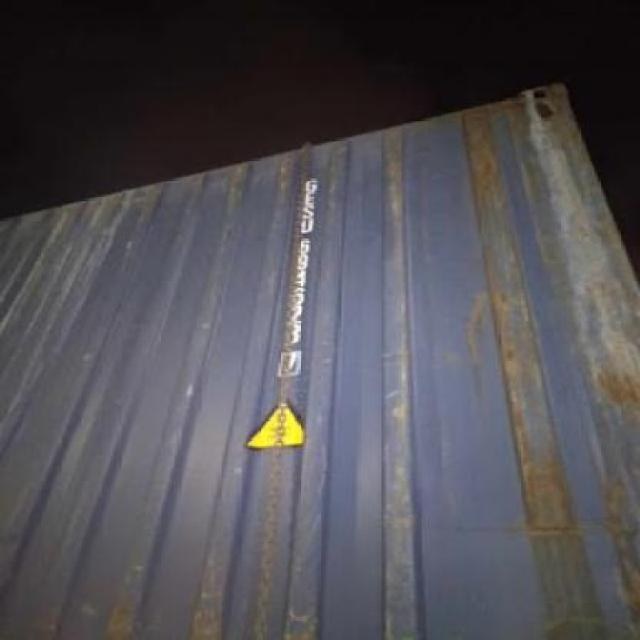container_number: (278, 166, 316, 388)
